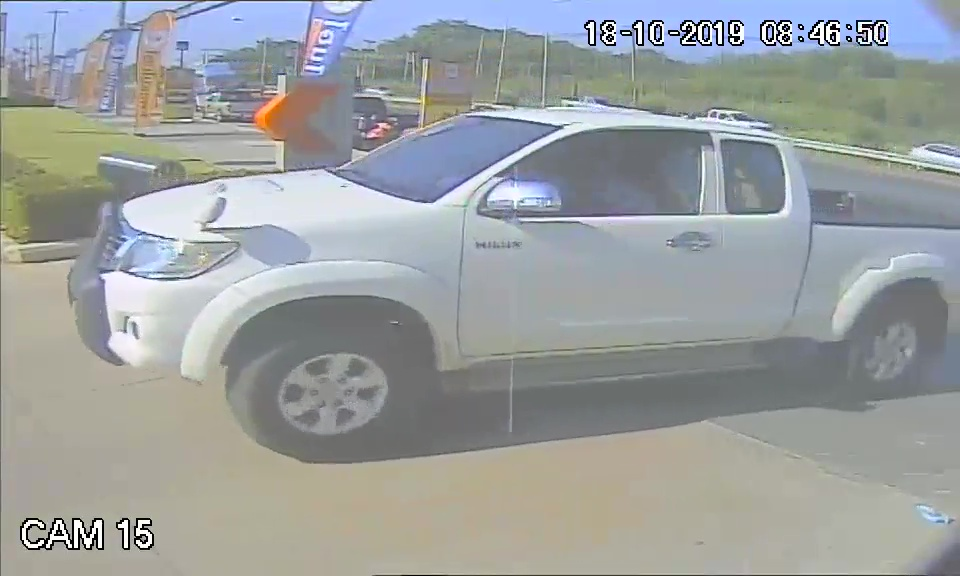pickup: (68, 107, 949, 458)
